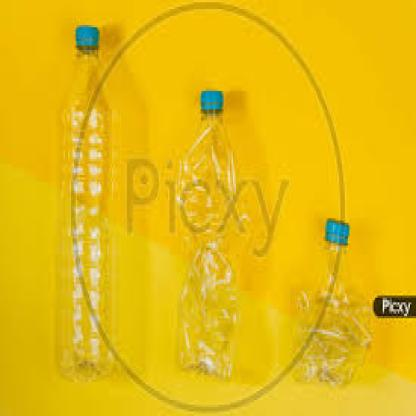Glass Bottle: (50, 18, 126, 391), (168, 86, 250, 388), (285, 207, 376, 388)
